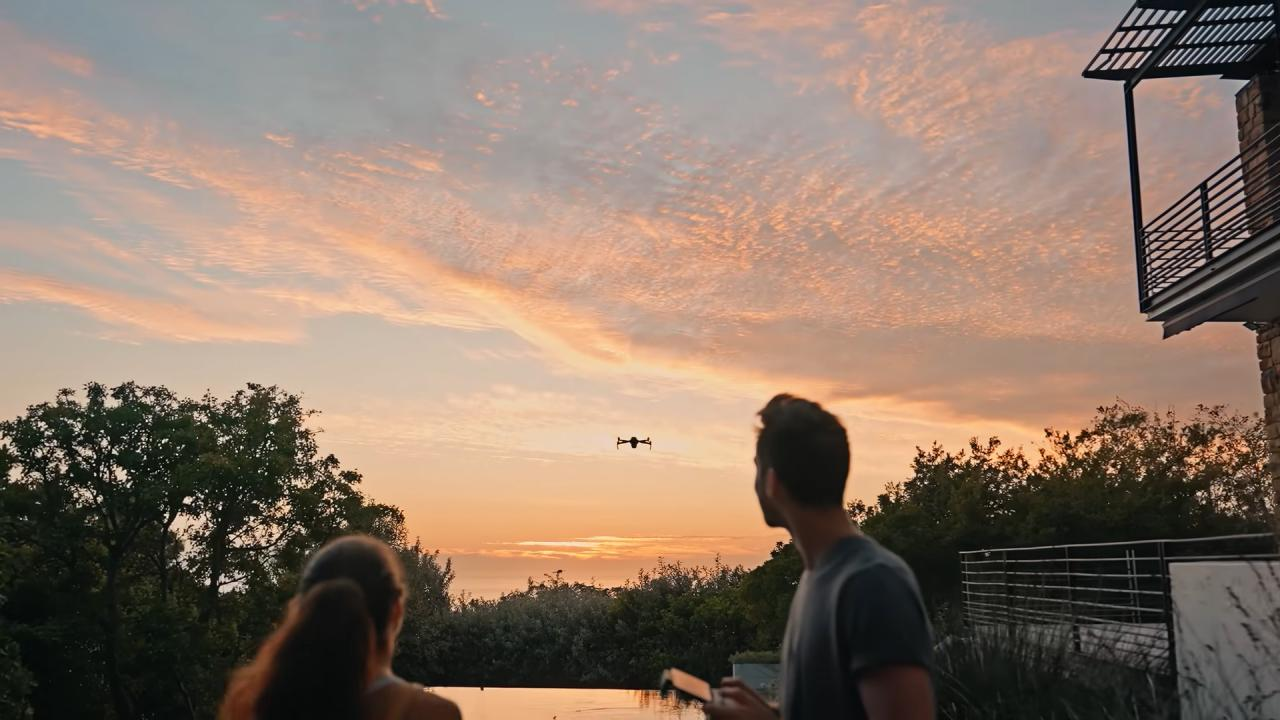Drone: (605, 423, 663, 458)
